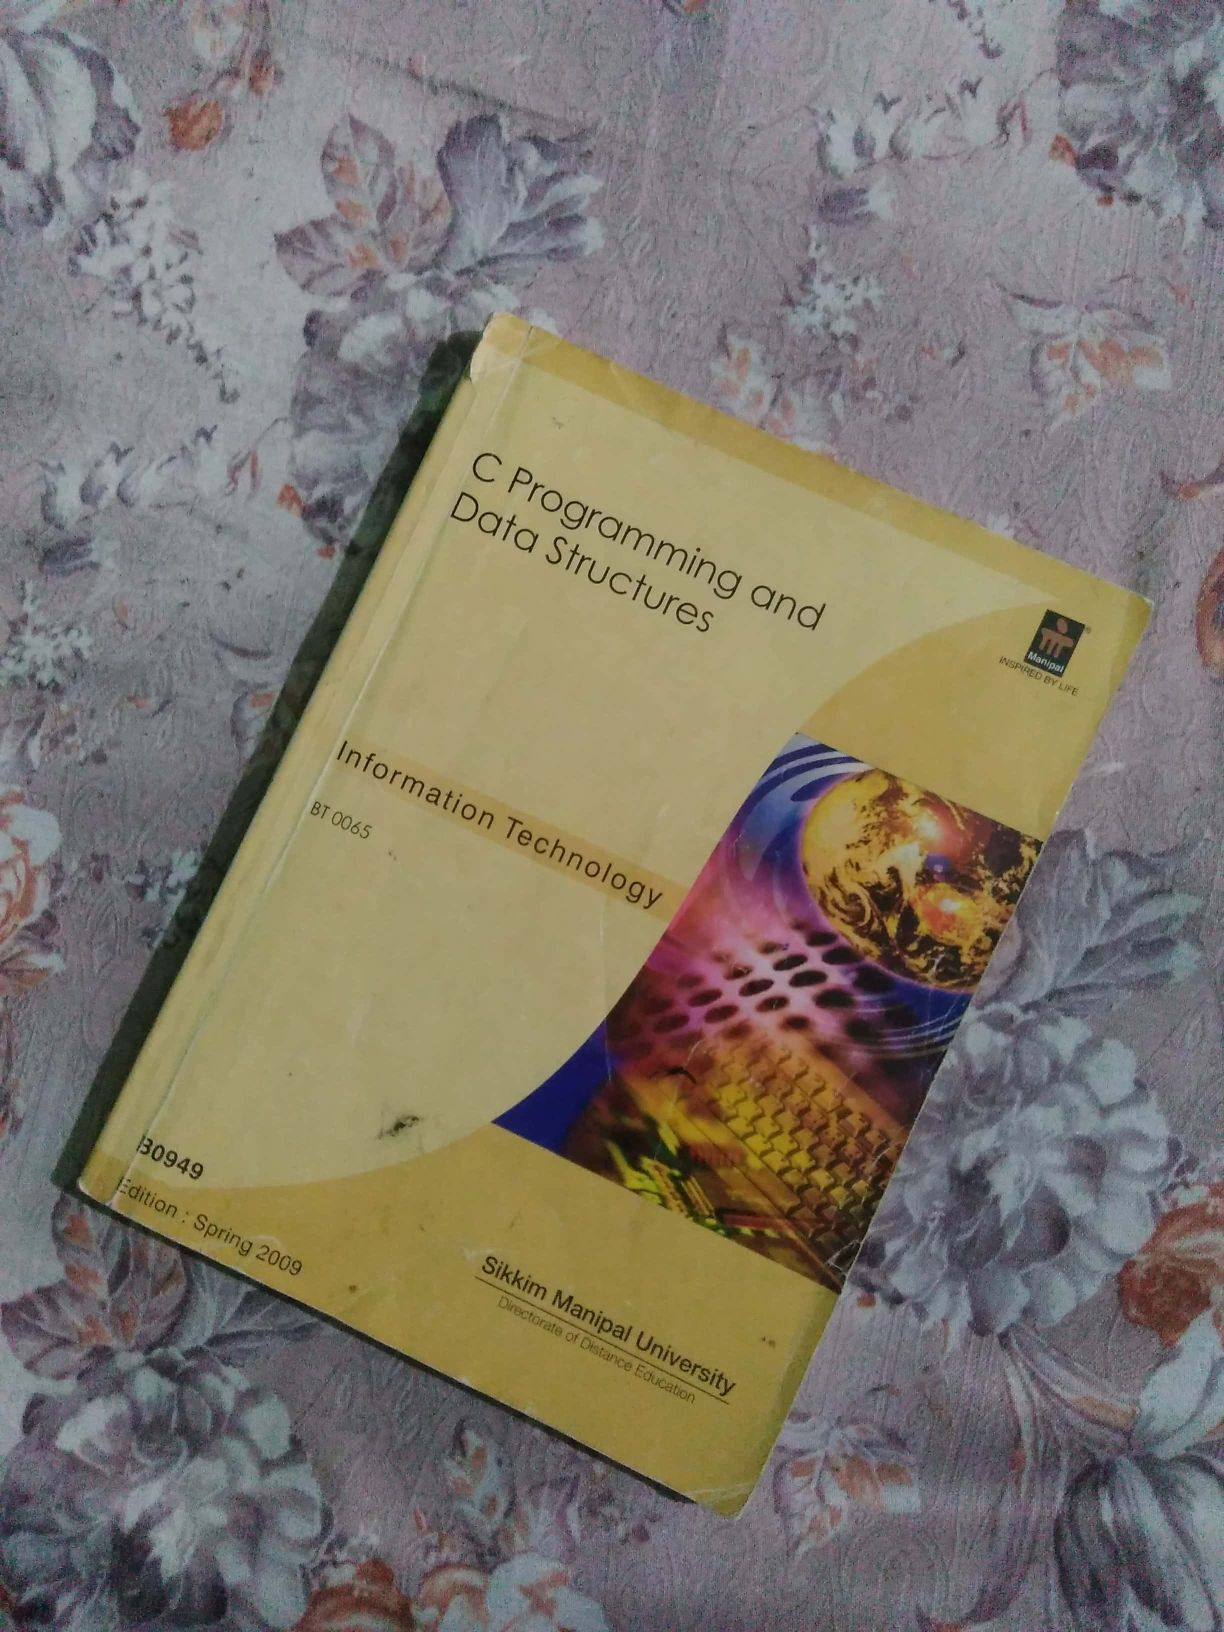clang: (82, 332, 1155, 1495)
